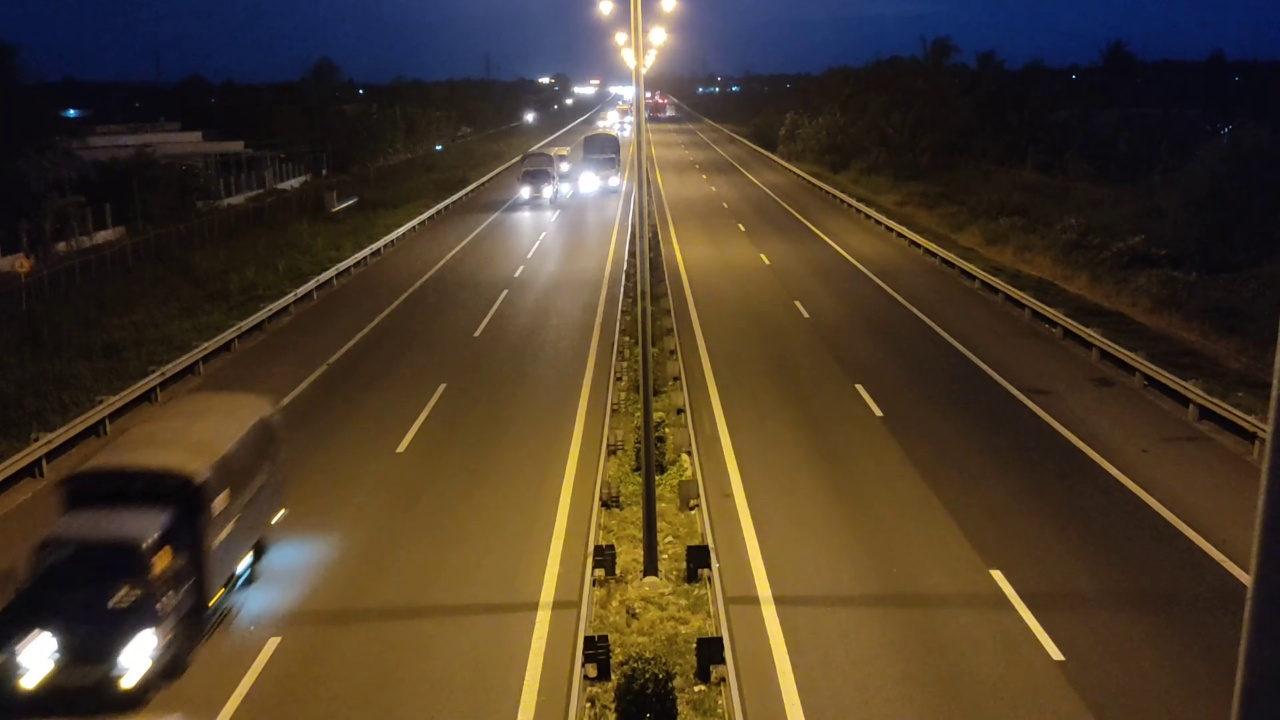truck: (1, 389, 290, 713)
